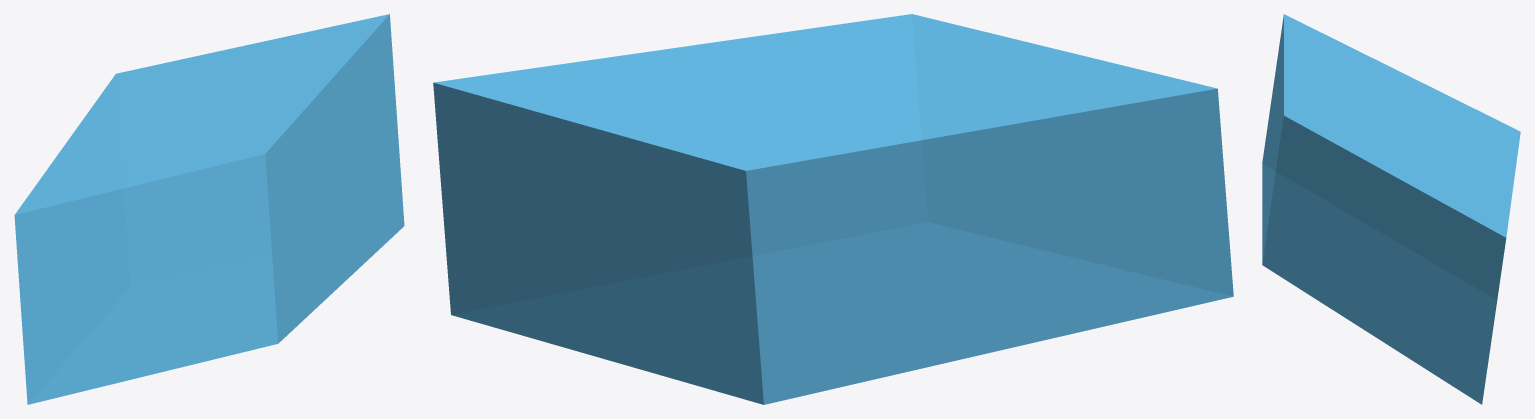
Rendered from Event_420094457_HBrechit_29.fbx.
3 renders of one model, left to right at view 1: azimuth 30°, elevation 25°; view 2: azimuth 150°, elevation 25°; view 3: azimuth 270°, elevation 25°, orthographic. The views are drawn at different scales.
Visible parts, largest first — view 1: Model; view 2: Model; view 3: Model.
Part boxes in pixels (x1,y1,x2,y2): Model: [14, 14, 404, 404]; Model: [433, 14, 1233, 404]; Model: [1262, 14, 1520, 404].
Size of the model in its own units: 1.18 by 0.4979 by 0.6241.
